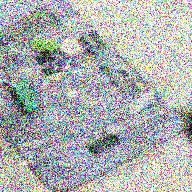러키펜정: (60, 39, 82, 57)
씨엠지세파클러캡슐: (47, 55, 75, 82)
에르도캡슐: (10, 82, 39, 113)
휴티렌정: (29, 38, 60, 53)
